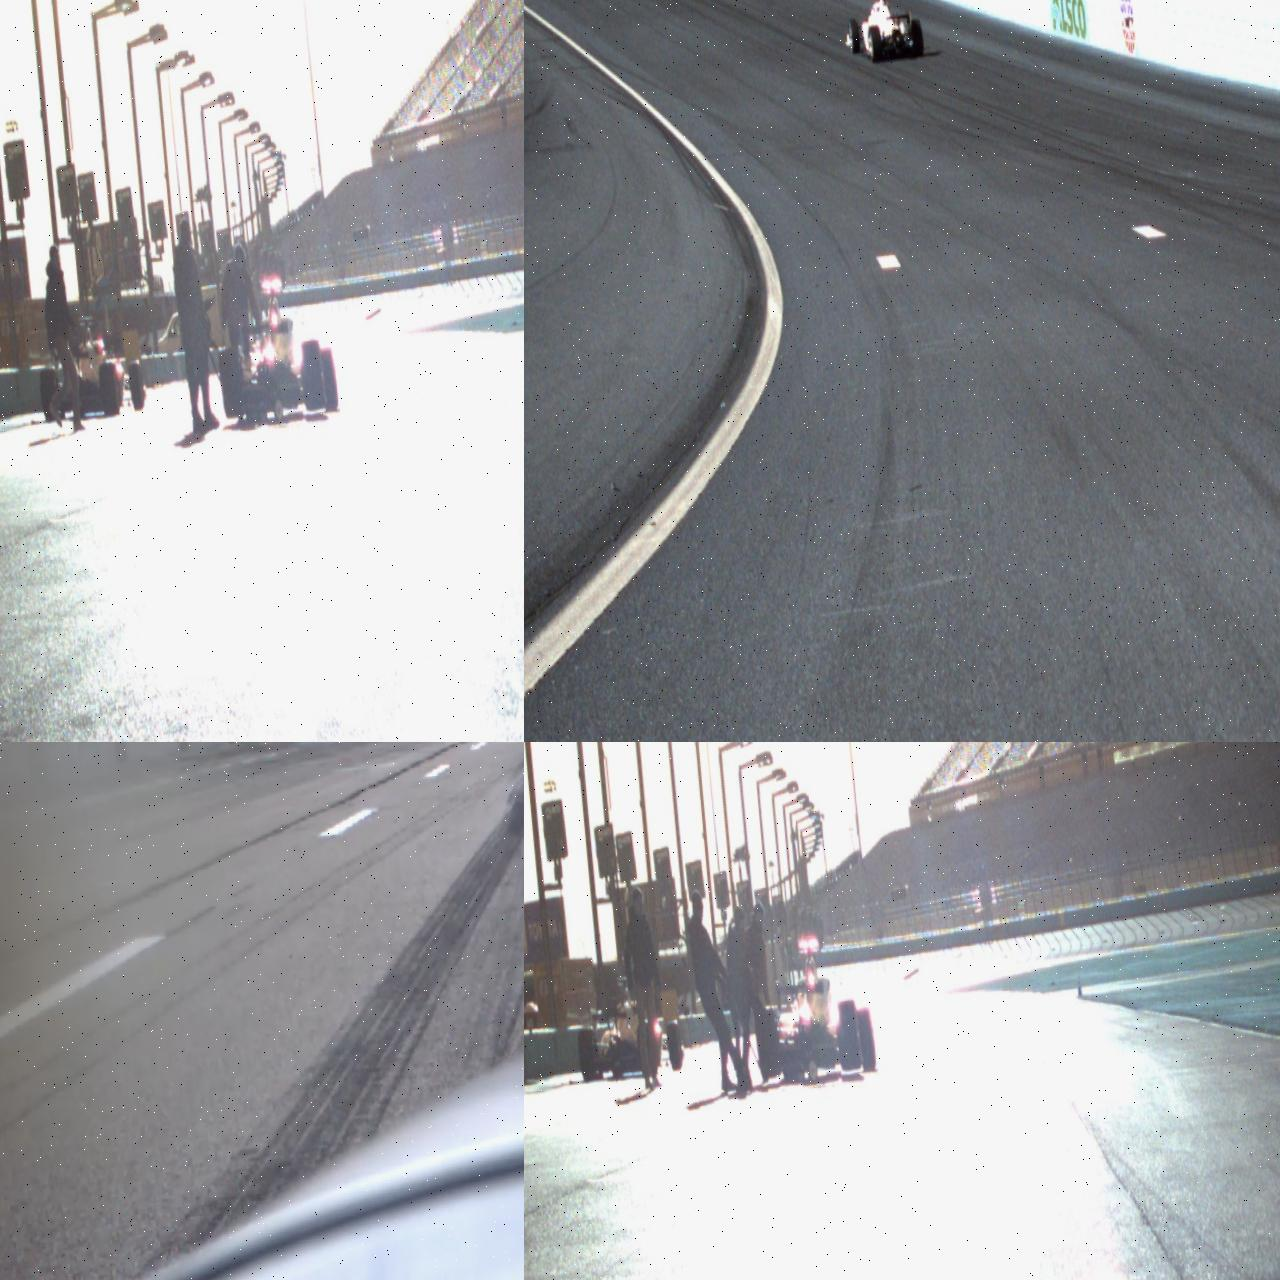AV: (748, 934, 878, 1083), (212, 274, 339, 422), (572, 972, 686, 1083), (34, 313, 148, 422), (840, 0, 925, 64)
Wheel: (754, 1008, 782, 1080), (218, 347, 245, 418), (300, 339, 327, 409), (837, 1001, 863, 1071), (857, 1008, 878, 1074), (635, 1021, 659, 1075), (577, 1029, 600, 1082), (320, 347, 339, 413), (39, 369, 62, 421), (98, 363, 121, 416), (128, 360, 147, 411), (667, 1020, 683, 1070), (867, 26, 883, 62), (911, 18, 925, 56), (847, 18, 862, 54)
